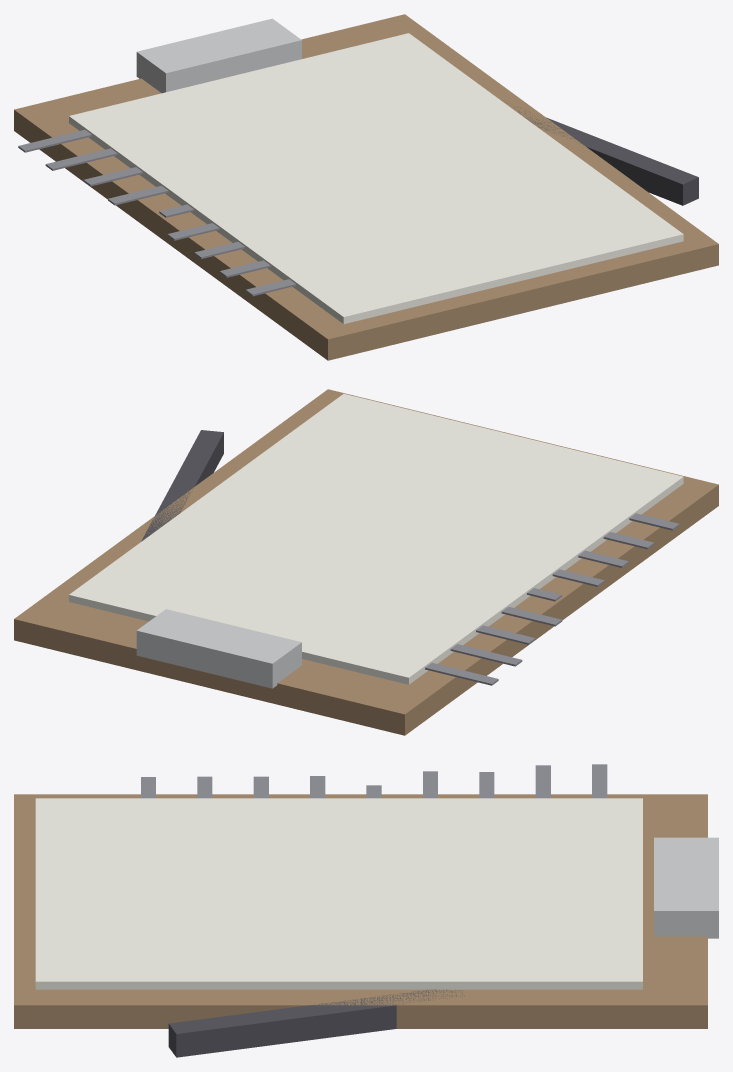
Rendered from police_clipboard_a.glb.
The picture shows the model from 3 angles, top to bottom: view 1: azimuth 30°, elevation 25°; view 2: azimuth 150°, elevation 25°; view 3: azimuth 270°, elevation 25°; orthographic projection. The views are drawn at different scales.
Visible parts, largest first — view 1: body; view 2: body; view 3: body.
Boxes of the visible parts, box(x1,y1,x2,y2) form: body: box(14, 14, 718, 360); body: box(14, 389, 718, 735); body: box(14, 764, 718, 1057).
Size of the model in its own units: 0.2857 by 0.025 by 0.325.
